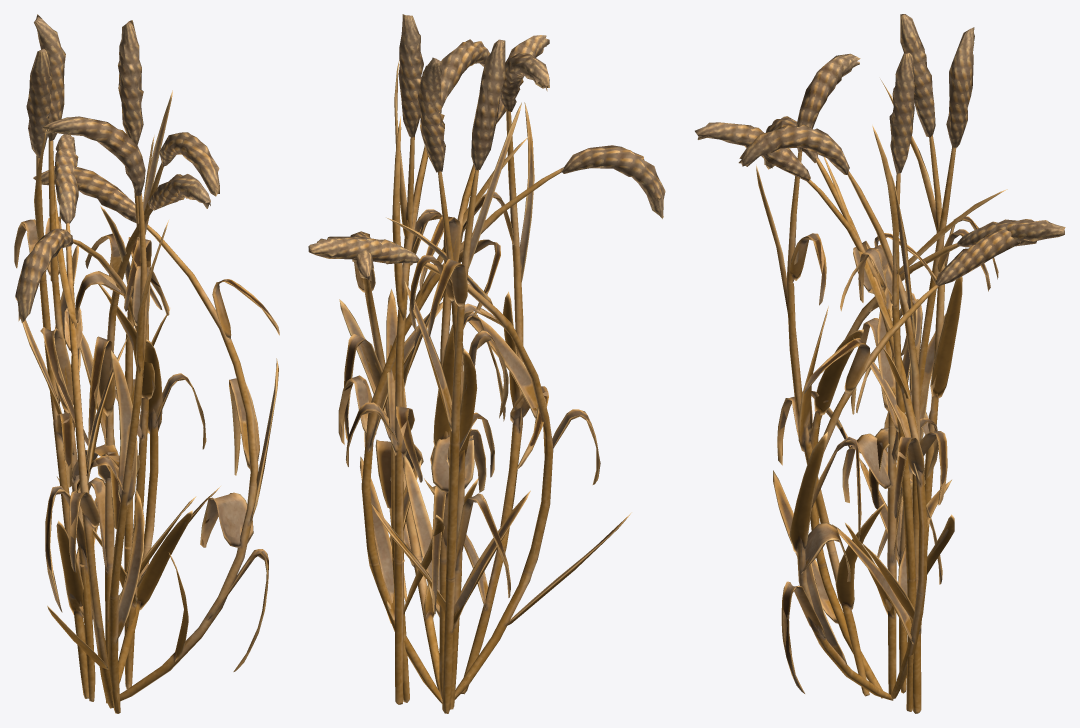
File: SM_Large_Clump_01.fbx
The picture shows the model from 3 angles, left to right: view 1: azimuth 30°, elevation 25°; view 2: azimuth 150°, elevation 25°; view 3: azimuth 270°, elevation 25°; orthographic projection. The views are drawn at different scales.
Visible parts, largest first — view 1: SM_Large_Clump_01_LOD0; view 2: SM_Large_Clump_01_LOD0; view 3: SM_Large_Clump_01_LOD0.
Boxes of the visible parts, x1=… form: SM_Large_Clump_01_LOD0: x1=14, y1=14, x2=279, y2=713; SM_Large_Clump_01_LOD0: x1=308, y1=14, x2=665, y2=713; SM_Large_Clump_01_LOD0: x1=695, y1=14, x2=1065, y2=713.
Size of the model in its own units: 94.32 by 107 by 211.
1 material, 1 textured.
